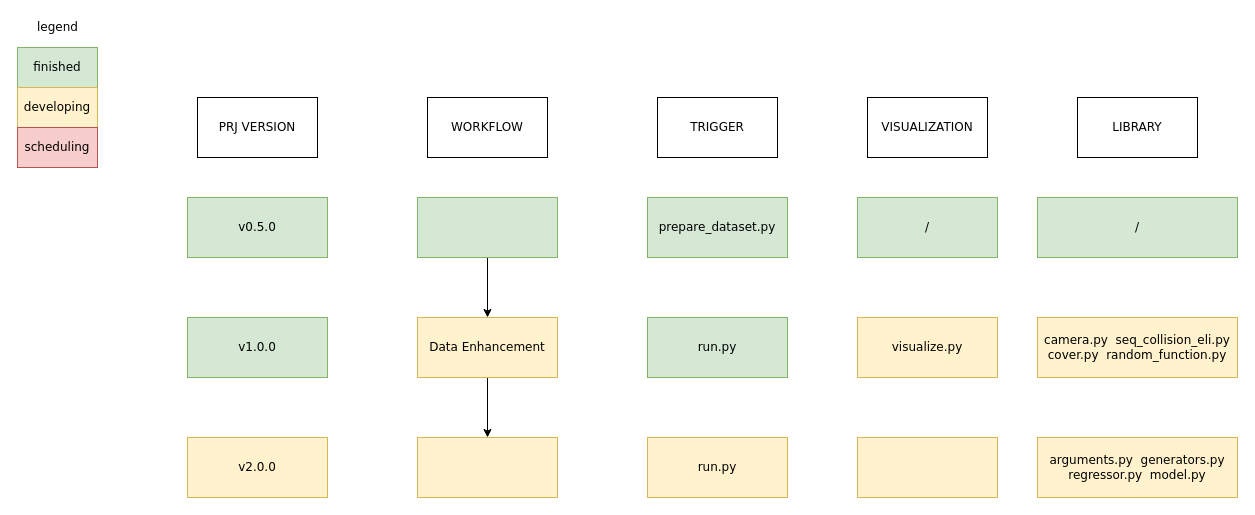
This 1255x515 diagram has some shape labels left out. The box of each missing label's shape, as (x1, y1, x2, y2) in pixels:
Prepare Dataset: (416, 196, 558, 258)
Video Pose 3D: (416, 436, 558, 498)
